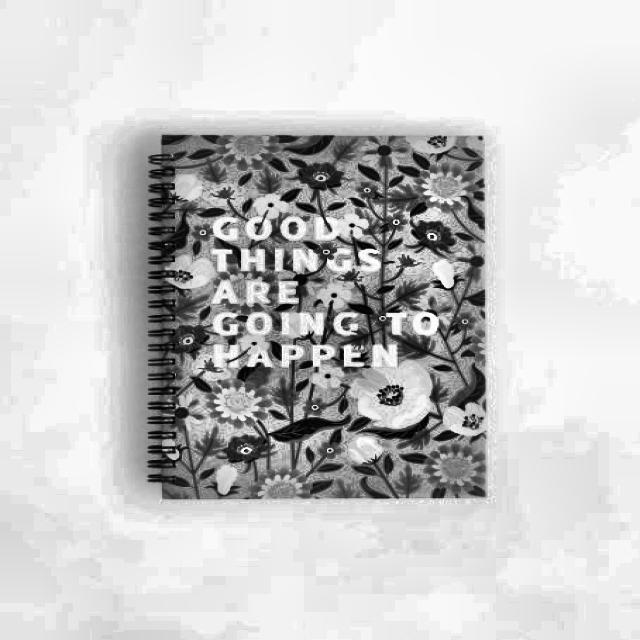Notebook: (108, 102, 530, 514)
